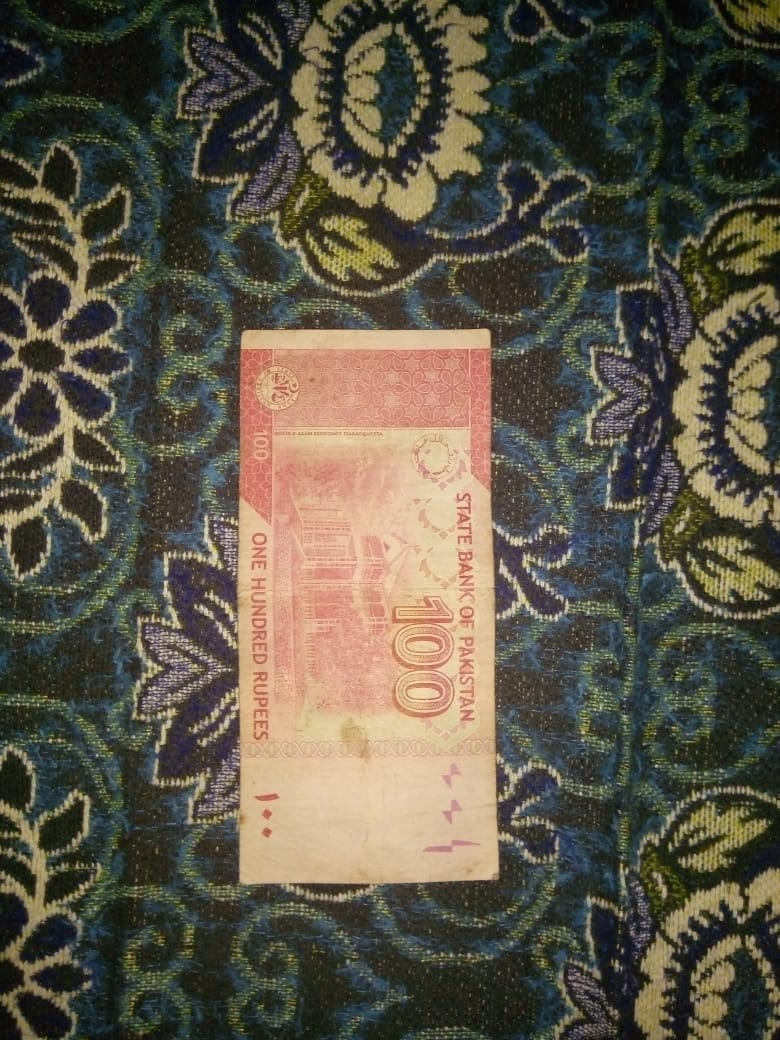100 rupee: (191, 299, 527, 927)
